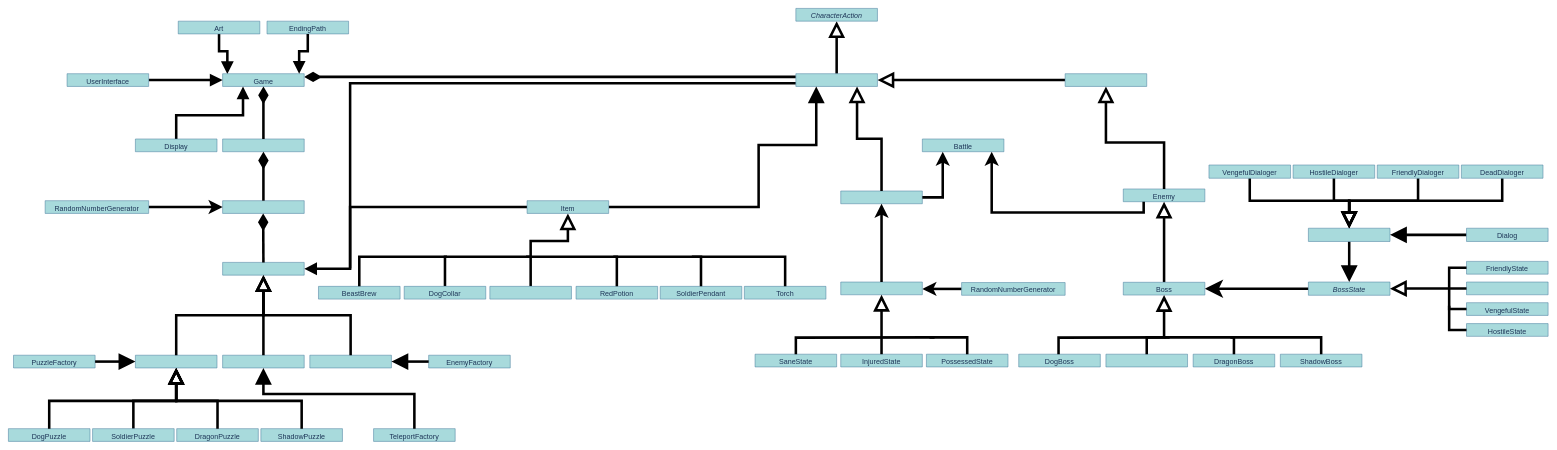
The diagram is 1557 pixels wide and 450 high, and some of its shapes have lost their labels. Here are the shapes that lost their labels. From the top down, the box of each, then its label:
(795, 73, 877, 86): Character
(1065, 73, 1147, 86): NPC
(222, 138, 304, 152): World
(222, 200, 304, 213): Stage
(840, 190, 922, 204): Exorcist
(1308, 228, 1390, 241): Dialoger
(222, 262, 304, 275): Level
(840, 282, 922, 295): ExorcistState
(1466, 282, 1548, 295): DeadState
(489, 286, 571, 299): DragonSword
(135, 355, 217, 368): PuzzleLevel
(222, 355, 304, 368): TeleportLevel
(309, 355, 391, 368): NormalLevel
(1105, 354, 1188, 367): SoldierBoss
